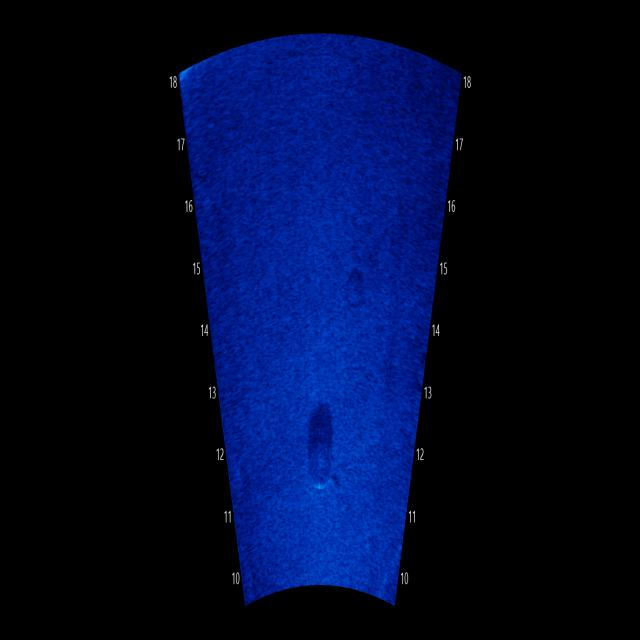circle: (300, 426, 342, 507)
